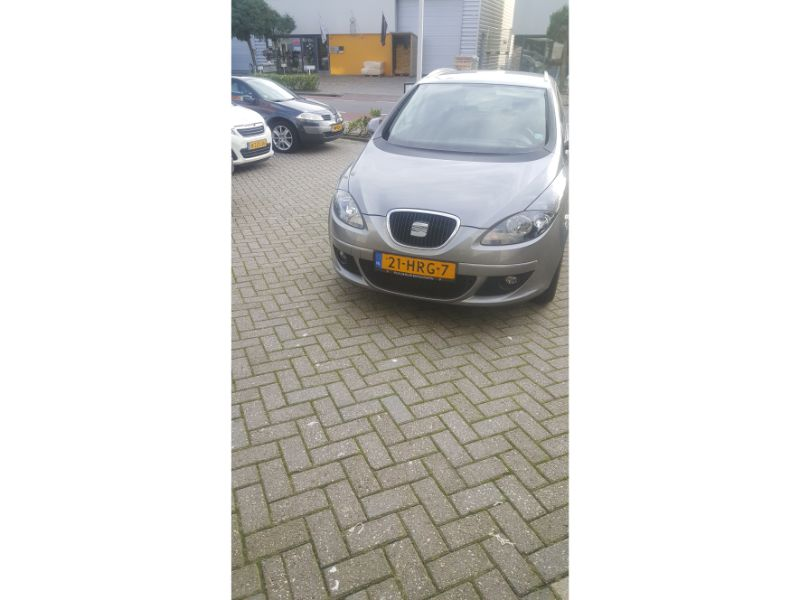kenteken: (371, 252, 461, 281)
